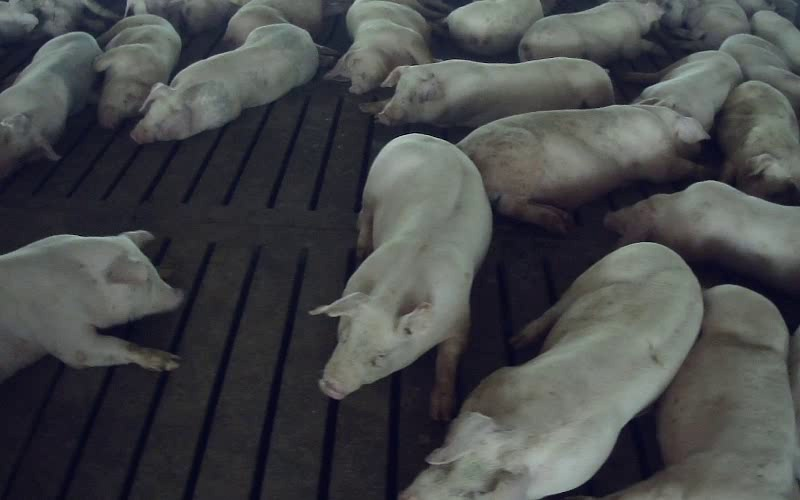pig: (402, 243, 702, 499), (313, 134, 491, 420), (607, 285, 796, 499), (458, 105, 707, 231), (0, 231, 181, 381), (131, 23, 318, 142), (605, 181, 799, 293), (360, 57, 613, 126), (0, 32, 100, 178), (324, 0, 453, 93), (716, 81, 799, 203), (94, 14, 180, 127), (624, 51, 742, 130), (519, 2, 662, 64), (719, 34, 799, 114), (446, 0, 543, 55), (224, 0, 321, 46)
